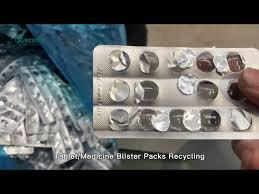pill_Strip: (93, 45, 258, 138), (93, 106, 258, 138), (93, 45, 258, 77), (38, 65, 97, 145), (93, 77, 234, 107), (61, 86, 97, 145), (19, 67, 53, 123), (28, 66, 61, 119), (25, 94, 58, 146), (22, 68, 53, 123), (38, 65, 70, 116), (37, 65, 69, 116), (218, 73, 257, 111), (11, 109, 49, 146), (23, 77, 52, 123), (0, 78, 24, 131), (51, 116, 83, 155), (26, 99, 61, 133), (25, 95, 49, 143), (0, 54, 38, 84), (51, 120, 75, 163), (25, 95, 49, 134), (0, 86, 25, 122), (60, 85, 85, 121), (0, 129, 50, 147), (11, 123, 50, 146), (0, 78, 25, 113), (76, 144, 111, 169), (84, 141, 116, 168), (26, 95, 48, 134), (60, 86, 84, 121), (27, 121, 59, 146), (60, 116, 82, 152), (60, 86, 82, 122), (58, 120, 79, 154), (74, 115, 97, 146), (64, 116, 83, 152), (10, 129, 48, 146), (60, 85, 83, 112), (50, 86, 70, 117), (167, 48, 195, 70), (50, 131, 68, 164), (50, 86, 69, 117), (77, 117, 97, 146), (0, 57, 22, 83), (134, 80, 158, 103), (27, 148, 53, 169), (25, 95, 39, 133), (61, 158, 107, 169), (230, 109, 252, 131), (60, 86, 80, 110), (98, 139, 118, 163), (109, 79, 129, 102), (109, 109, 130, 130), (200, 109, 220, 131), (177, 74, 198, 94), (109, 50, 129, 71), (139, 51, 158, 73), (0, 111, 19, 133), (57, 88, 71, 117), (24, 48, 49, 64), (0, 77, 20, 97), (0, 103, 23, 120), (226, 80, 245, 100), (136, 109, 155, 129), (1, 24, 26, 39), (169, 109, 186, 131), (183, 109, 200, 131), (196, 51, 214, 71), (197, 81, 217, 99), (151, 111, 169, 131), (1, 108, 24, 123), (226, 52, 244, 71), (1, 41, 25, 55), (11, 122, 26, 144), (35, 61, 53, 79), (213, 55, 229, 75), (76, 116, 92, 136), (26, 134, 50, 147), (0, 54, 18, 71), (5, 100, 25, 115), (37, 62, 54, 79), (23, 51, 43, 65), (27, 134, 50, 146), (82, 159, 108, 169), (3, 146, 33, 154), (62, 157, 81, 169), (9, 25, 27, 37), (71, 135, 83, 152), (89, 145, 109, 155), (85, 133, 98, 147), (52, 74, 67, 86), (95, 142, 110, 154), (166, 52, 177, 68), (95, 142, 110, 153), (30, 55, 45, 66), (0, 39, 11, 53), (42, 161, 61, 169), (68, 160, 84, 169), (38, 120, 49, 133), (48, 120, 59, 133), (9, 154, 32, 160), (0, 132, 11, 144), (0, 97, 8, 113), (94, 56, 105, 67), (95, 161, 107, 168), (28, 135, 38, 143), (74, 139, 76, 143)
